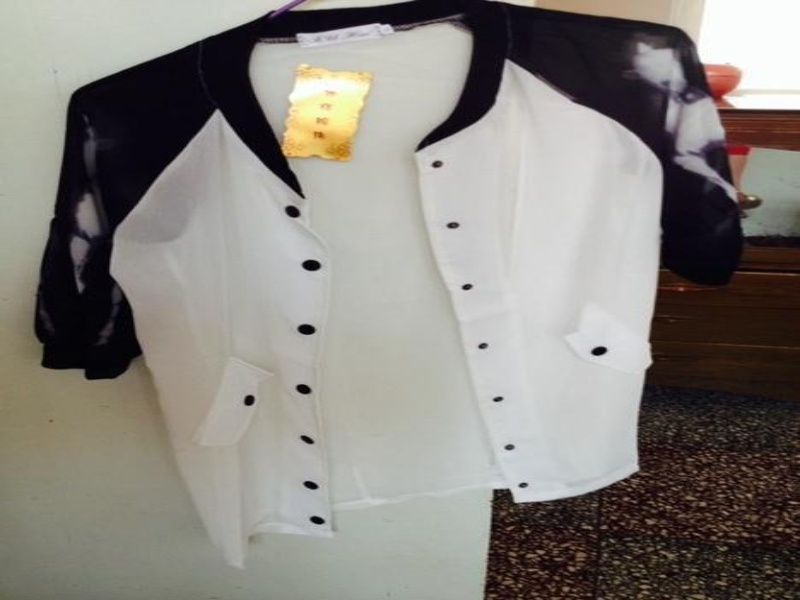long_sleeved_outwear: (29, 0, 745, 574)
